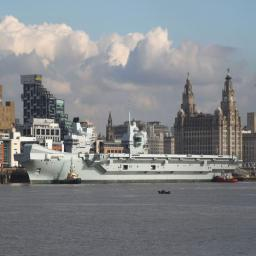Portanaves: (14, 98, 244, 189)
